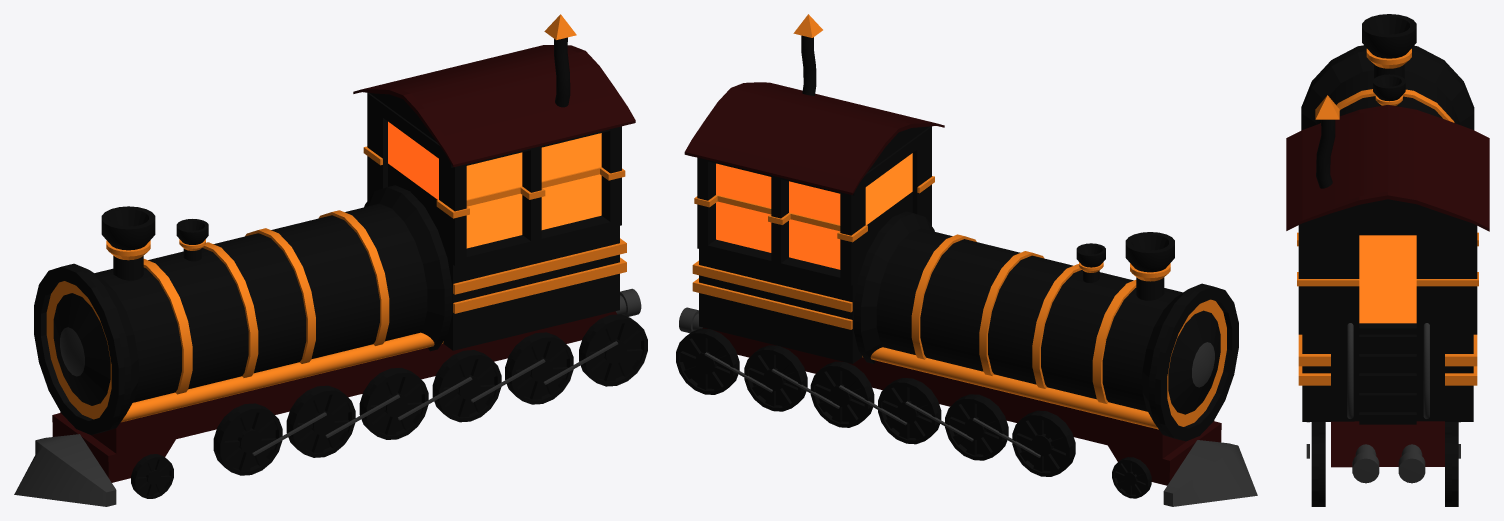
File: Locomotief.fbx
The picture shows the model from 3 angles, left to right: view 1: azimuth 30°, elevation 25°; view 2: azimuth 150°, elevation 25°; view 3: azimuth 270°, elevation 25°; orthographic projection. The views are drawn at different scales.
Parts seen in each view (by area): view 1: Cylinder001, Box005, Cylinder006, Box004, Cylinder004, Box003, Cylinder002, Box006, Cylinder007, Cylinder008; view 2: Box005, Cylinder001, Cylinder006, Box004, Box003, Cylinder003, Cylinder002, Box006, Cylinder007, Cylinder008; view 3: Box005, Cylinder001, Box004, Cylinder002, Cylinder006, Cylinder010, Cylinder009, Cylinder008, Cylinder007, Pyramid001.
Boxes of the visible parts, <box> form: Cylinder001: <box>34,185,452,434</box>; Box005: <box>353,45,635,350</box>; Cylinder006: <box>131,314,647,498</box>; Box004: <box>52,311,617,482</box>; Cylinder004: <box>120,332,443,422</box>; Box003: <box>14,434,116,506</box>; Cylinder002: <box>101,206,155,280</box>; Box006: <box>252,341,618,455</box>; Cylinder007: <box>176,219,208,261</box>; Cylinder008: <box>554,37,570,107</box>; Box005: <box>684,82,944,363</box>; Cylinder001: <box>853,211,1238,441</box>; Cylinder006: <box>676,328,1151,498</box>; Box004: <box>702,327,1221,485</box>; Box003: <box>1163,440,1257,506</box>; Cylinder003: <box>862,347,1158,429</box>; Cylinder002: <box>1125,232,1174,300</box>; Box006: <box>704,352,1040,457</box>; Cylinder007: <box>1076,243,1105,282</box>; Cylinder008: <box>801,35,816,95</box>; Box005: <box>1286,105,1489,424</box>; Cylinder001: <box>1301,45,1474,130</box>; Box004: <box>1331,421,1444,467</box>; Cylinder002: <box>1362,14,1416,78</box>; Cylinder006: <box>1311,422,1458,506</box>; Cylinder010: <box>1352,444,1425,483</box>; Cylinder009: <box>1347,323,1429,418</box>; Cylinder008: <box>1316,119,1335,188</box>; Cylinder007: <box>1373,74,1405,106</box>; Pyramid001: <box>1315,95,1339,119</box>.
Size of the model in its own units: 47.35 by 28.1 by 13.44.
